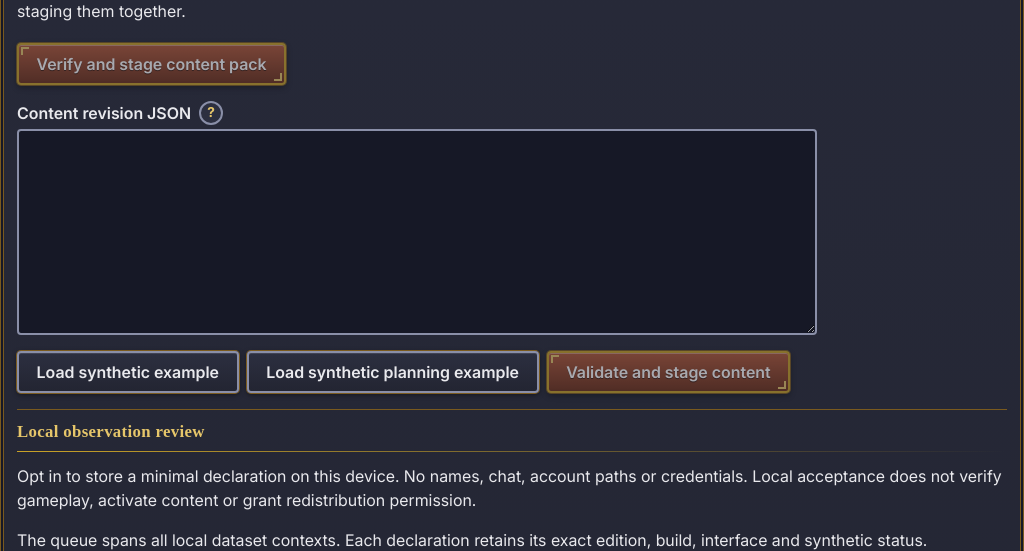
it: stages separately from activation and exposes uncertainty and source policy negatives
(page scrolled)
Click the button "Load synthetic example".
click(128, 372)  # box [17,350,239,393]
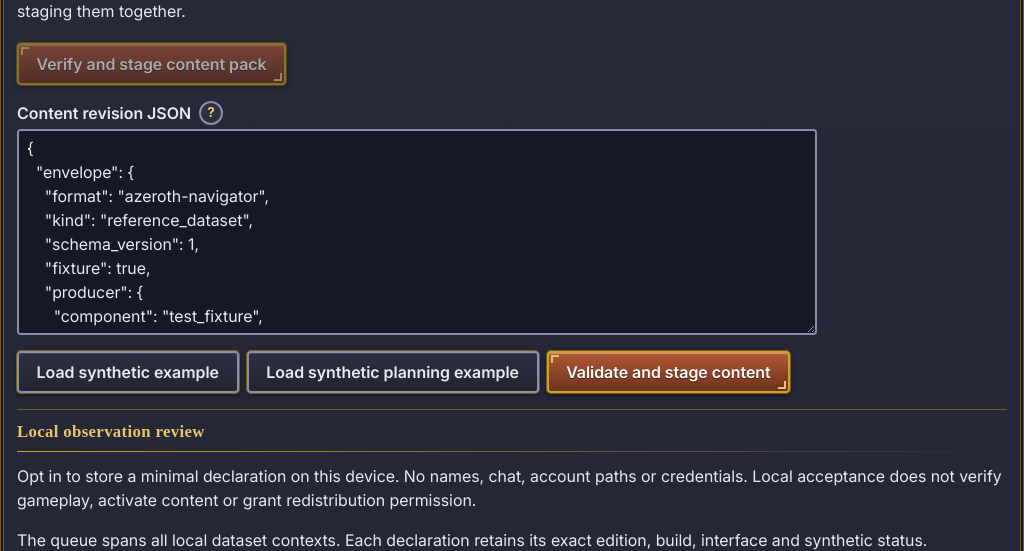
Click the button "Validate and stage content".
click(668, 372)  # box [546,350,790,393]
(page scrolled)
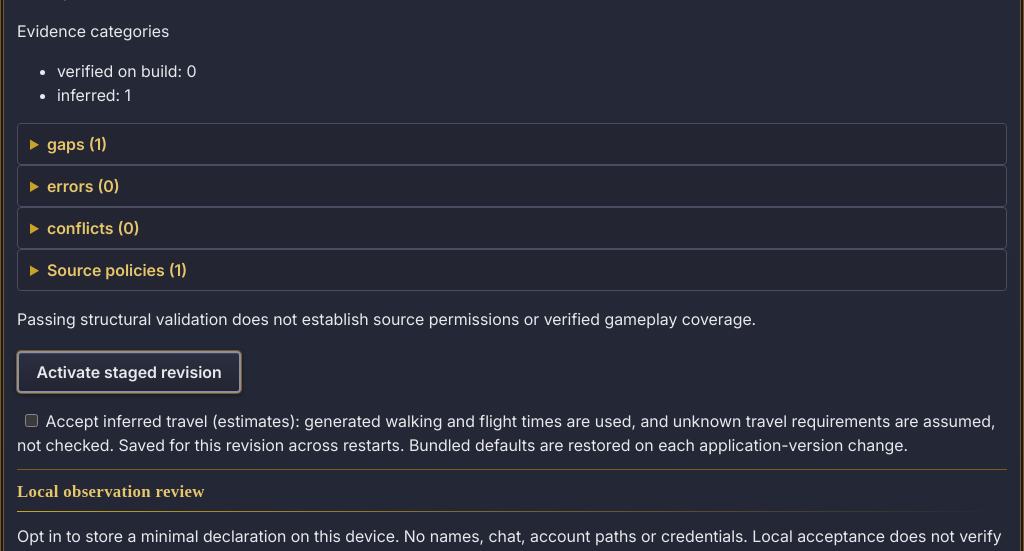
Result: the list item "verified on build: 0" is shown at [57,61,196,81]
Click the button "Activate staged revision".
click(129, 372)  # box [17,351,241,393]
(page scrolled)
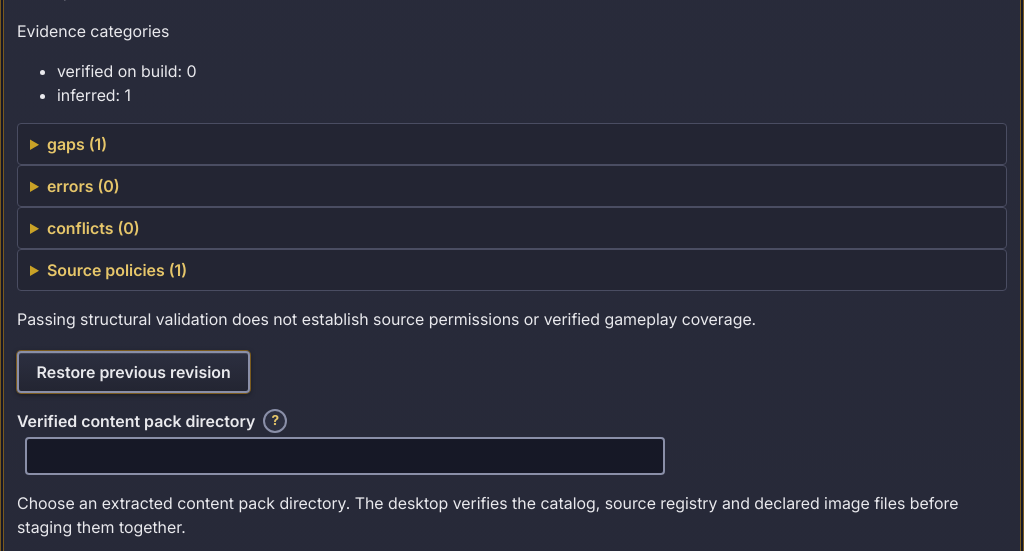
Click the button "Restore previous revision".
click(134, 372)  # box [17,351,250,393]
(page scrolled)
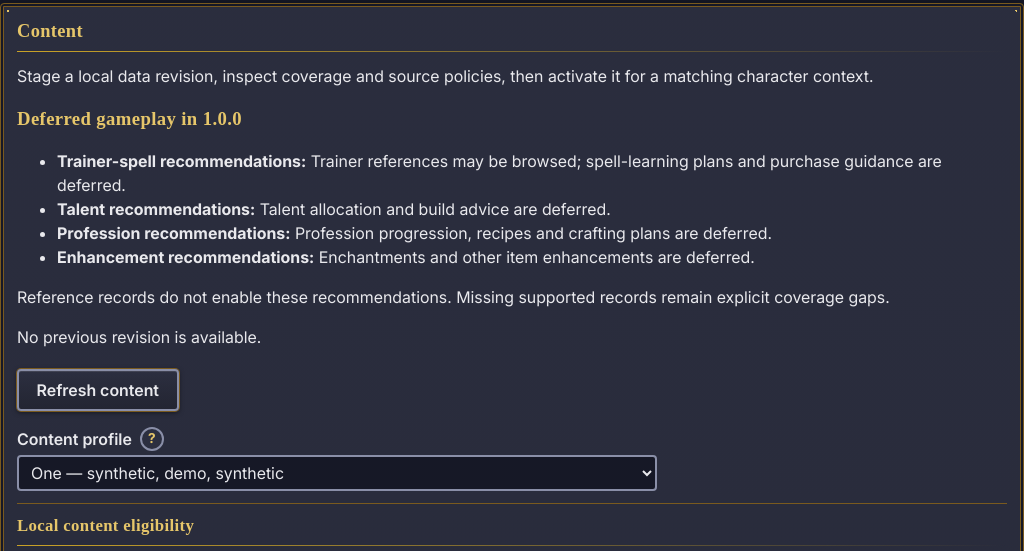
Result: the text "No previous revision is available." is shown at [17,327,261,347]
